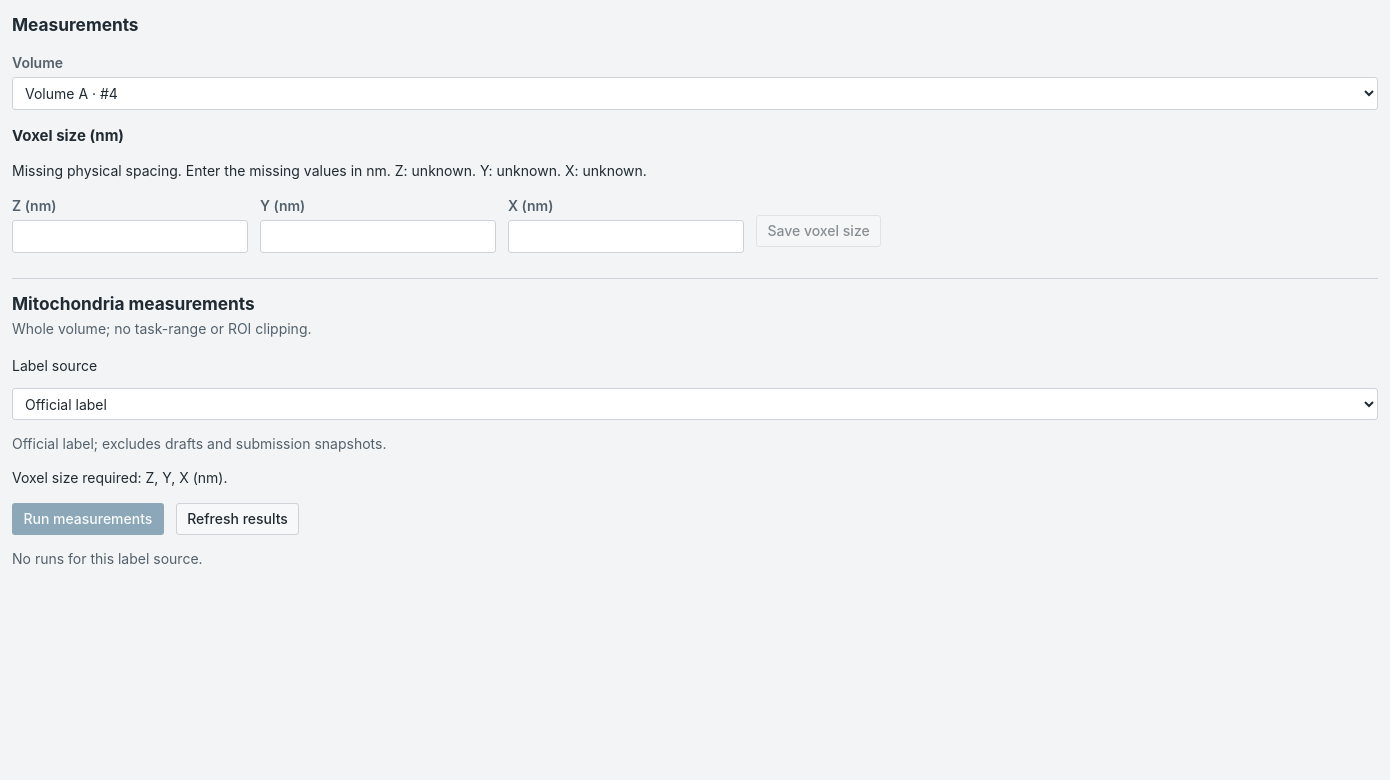
Scenario: keeps invalid spacing and failed saves from enabling measurement
Expected: the text "No runs for this label source." is shown, [12,550,203,567]
In the number field labelled "Z (nm)": (130, 237) [12,220,248,253], type "0"
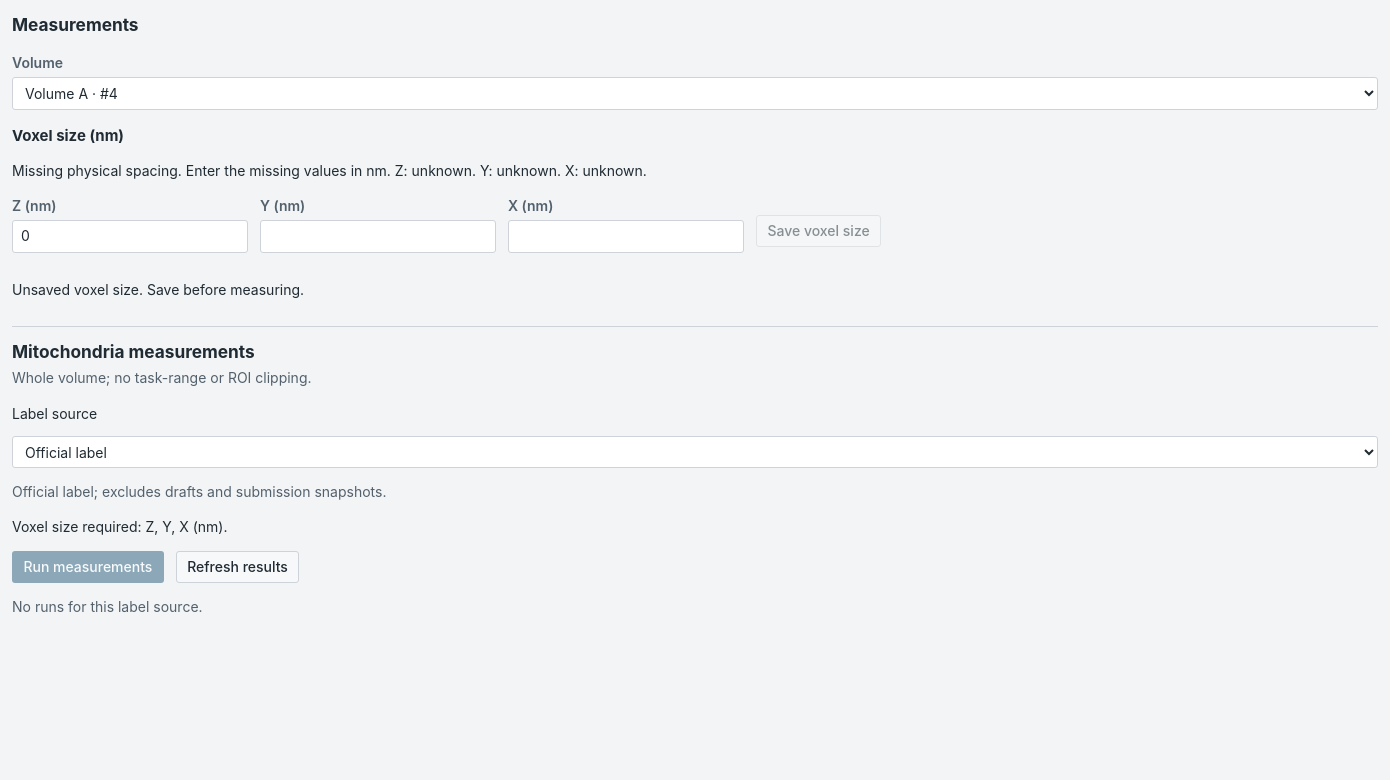
In the number field labelled "Y (nm)": (378, 237) [260,220,496,253], type "0"
In the number field labelled "X (nm)": (626, 237) [508,220,744,253], type "0"
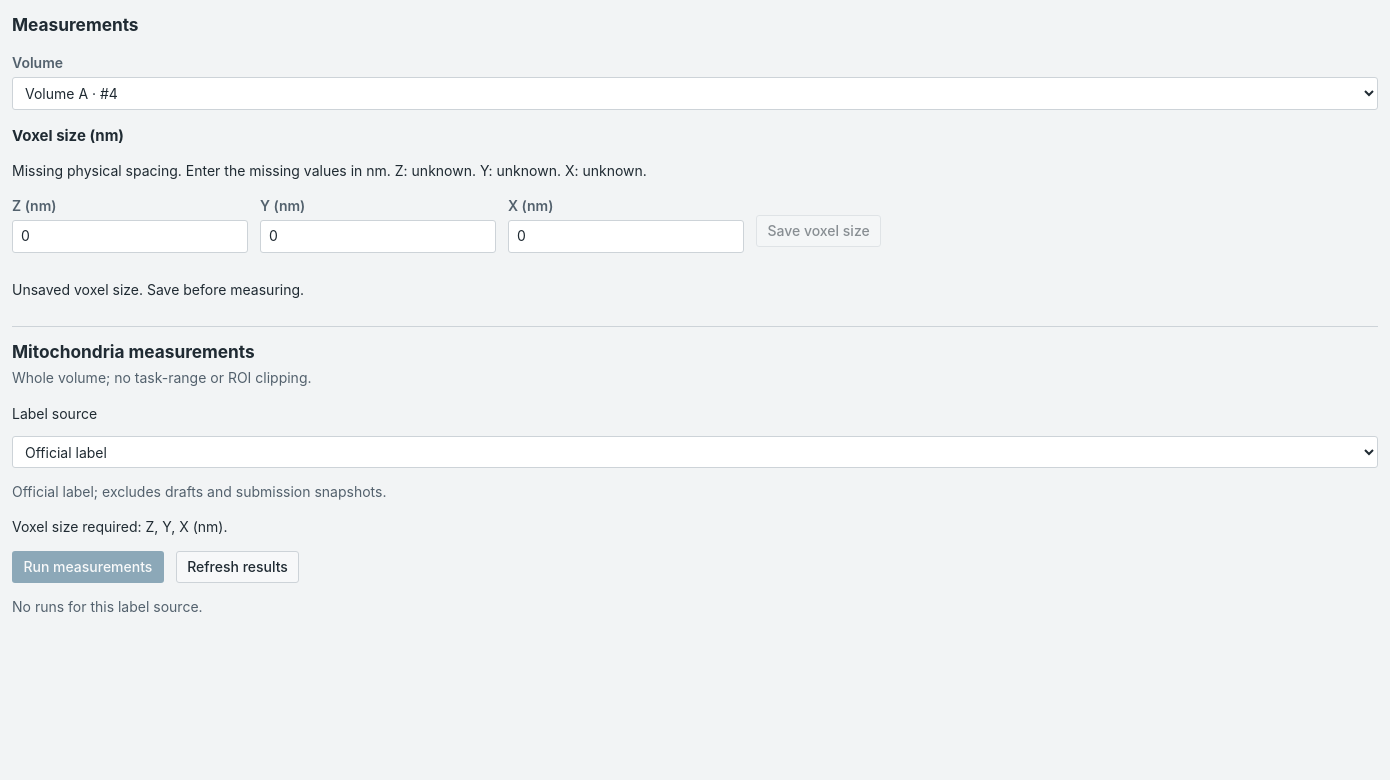
Expected: the button "Save voxel size" is disabled, [756,215,881,247]
Replace the text in the number field labelled "Z (nm)" with "16": (130, 237) [12,220,248,253]
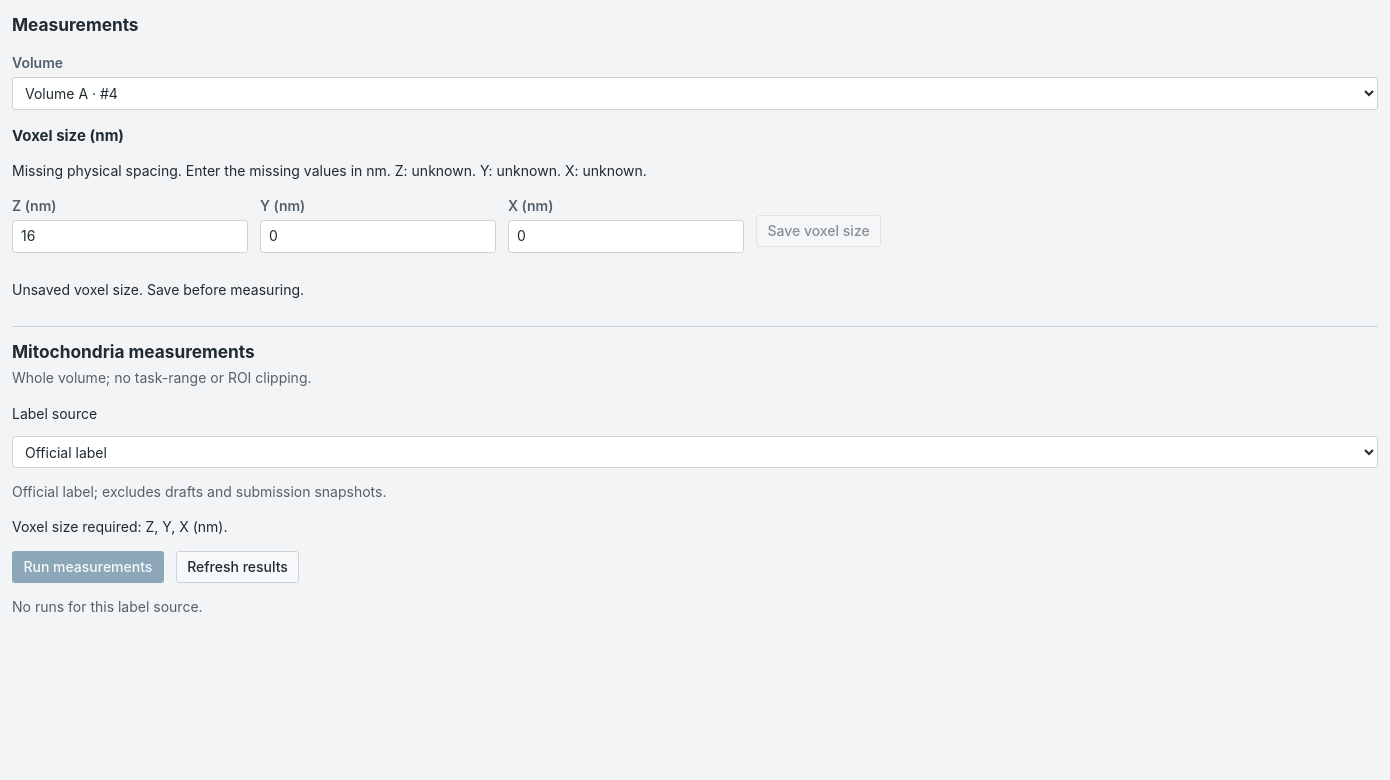
Replace the text in the number field labelled "Y (nm)" with "16": (378, 237) [260,220,496,253]
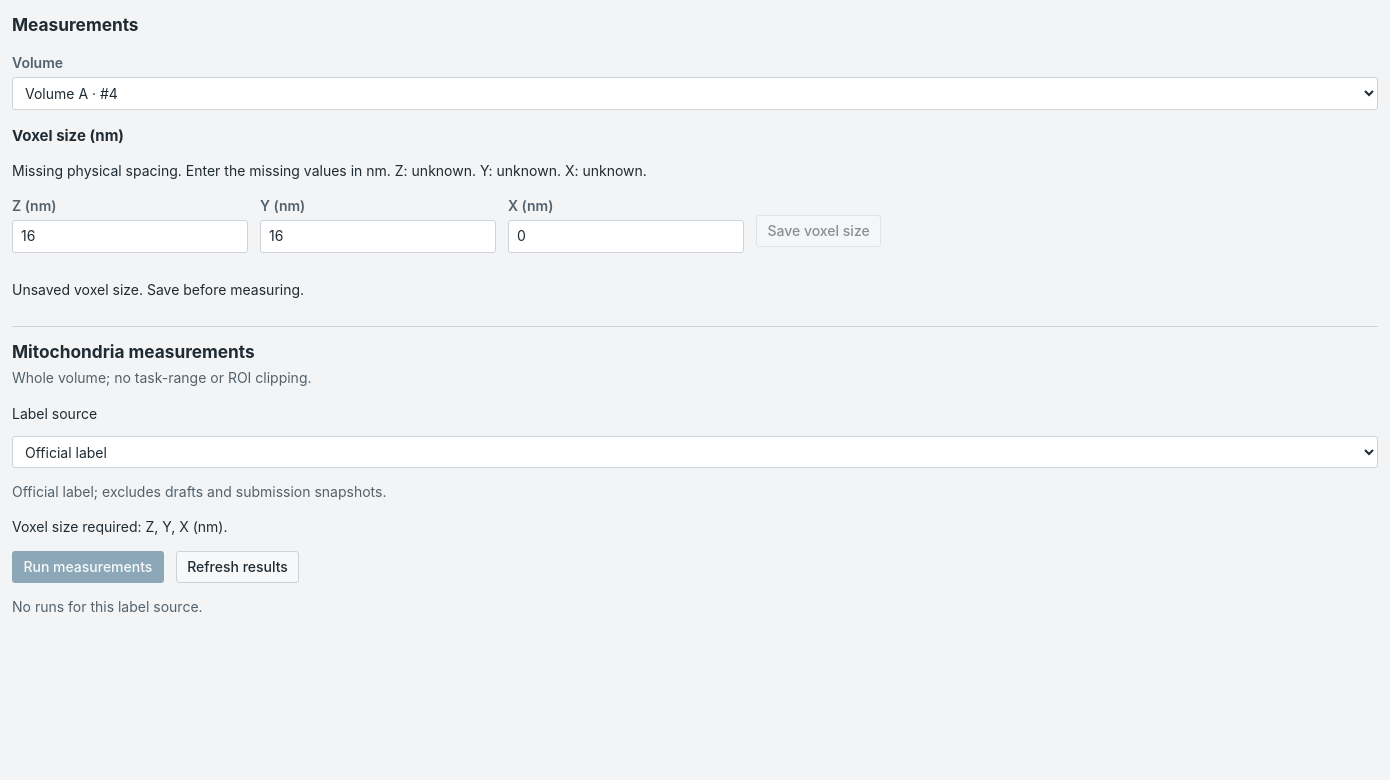
Replace the text in the number field labelled "X (nm)" with "16": (626, 237) [508,220,744,253]
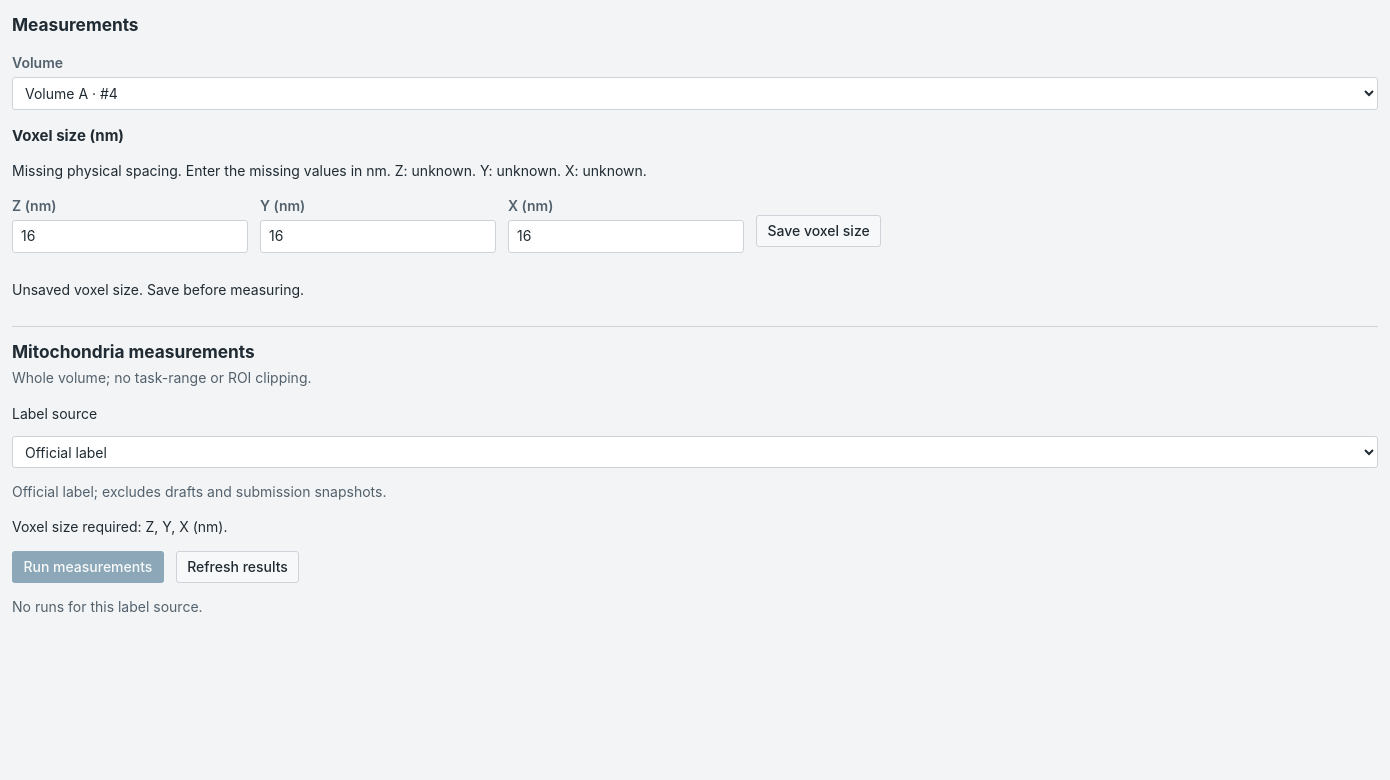
Click the button "Save voxel size": (819, 231) [756,215,881,247]
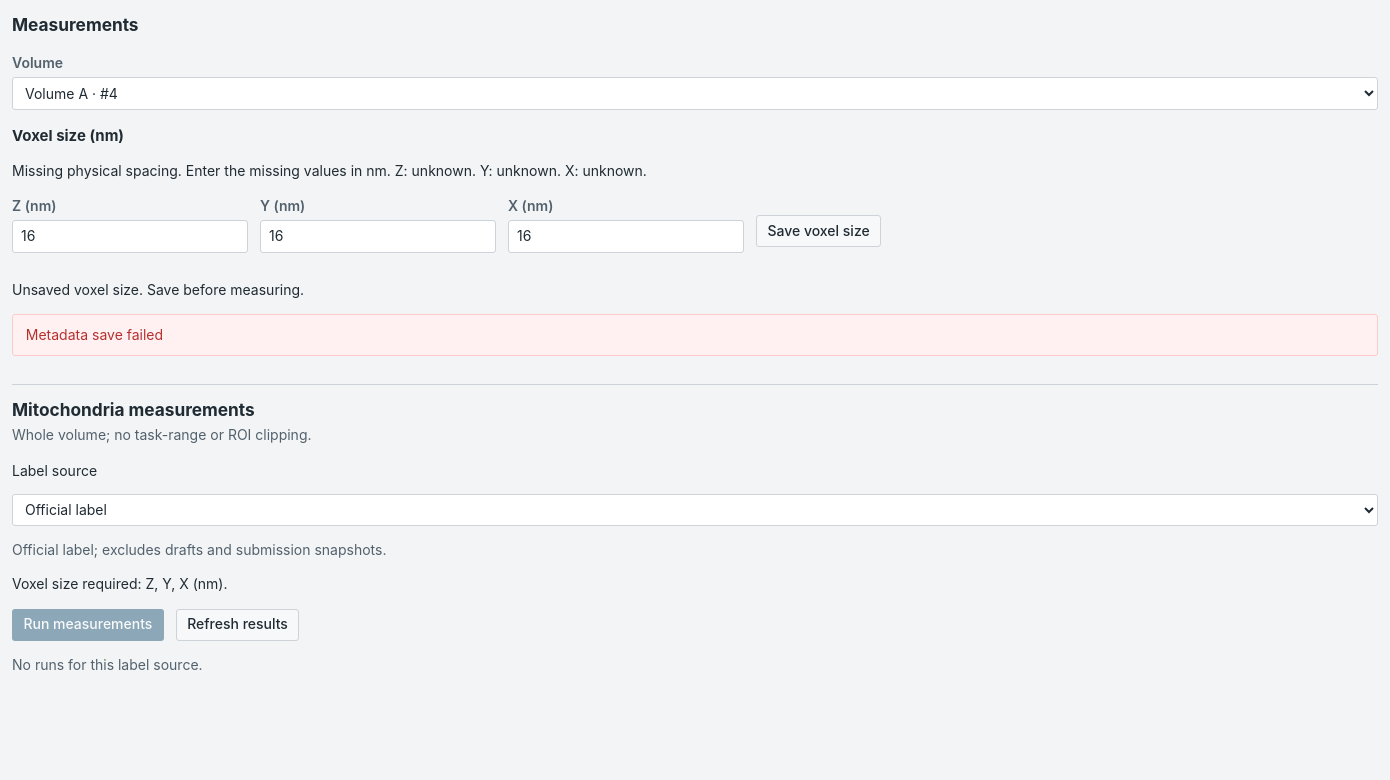
Expected: the button "Run measurements" is disabled, [12,608,164,640]
Result: the message "Metadata save failed" is shown at [12,314,1378,356]
